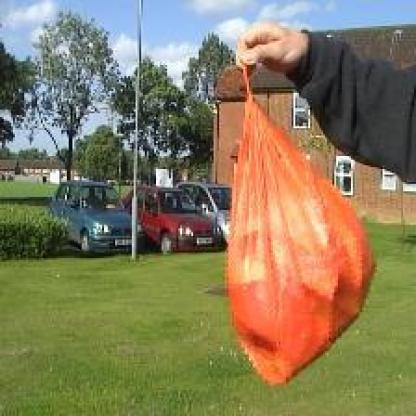other: (215, 81, 387, 379)
